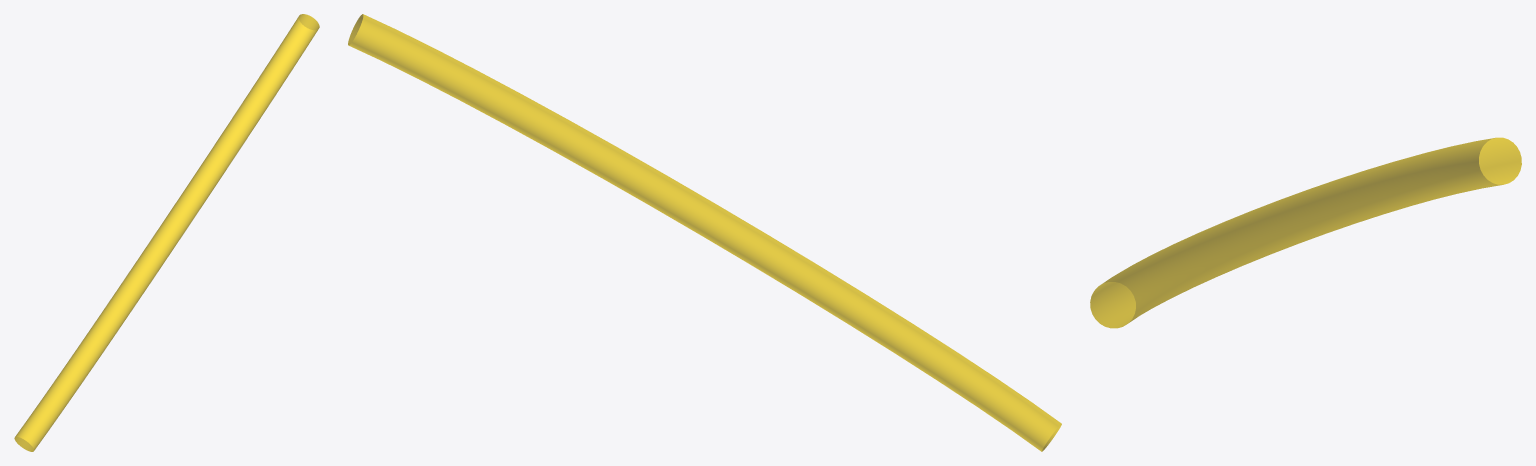
Rendered from Event_15818458_track_22.fbx.
3 renders of one model, left to right at view 1: azimuth 30°, elevation 25°; view 2: azimuth 150°, elevation 25°; view 3: azimuth 270°, elevation 25°, orthographic. The views are drawn at different scales.
Visible parts, largest first — view 1: Model; view 2: Model; view 3: Model.
Boxes of the visible parts, <box> form: Model: <box>14,14,319,451</box>; Model: <box>348,14,1061,451</box>; Model: <box>1090,137,1521,328</box>.
Size of the model in its own units: 0.763 by 0.5118 by 0.3617.
